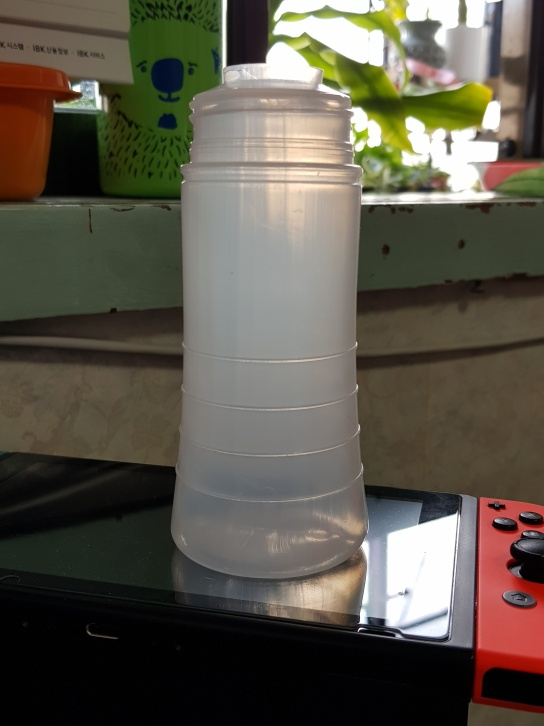Plastic: (171, 58, 373, 583)
